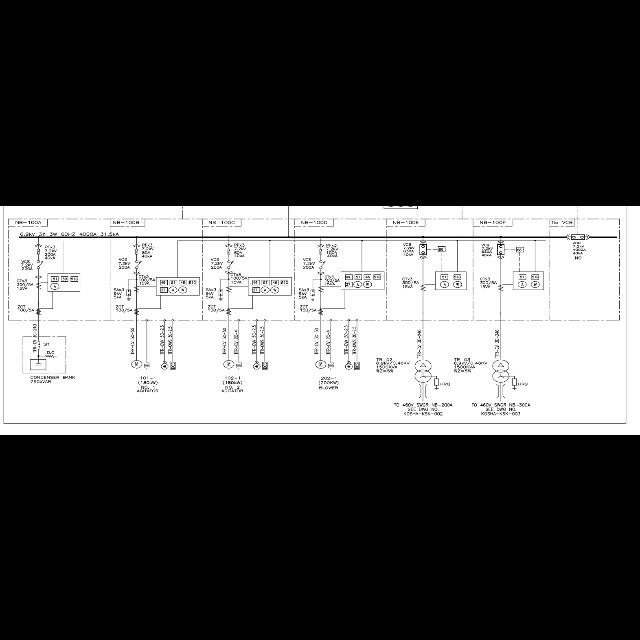A: (518, 280, 526, 288), (260, 286, 270, 292), (439, 280, 448, 286), (169, 286, 177, 292), (353, 280, 361, 286)
CB: (419, 244, 426, 254), (498, 243, 504, 254), (571, 234, 585, 238)
CT: (36, 280, 42, 288), (134, 284, 140, 292), (226, 284, 232, 292), (318, 284, 324, 292), (420, 282, 426, 290), (498, 284, 504, 290)
GND: (434, 386, 440, 389), (126, 298, 132, 300), (310, 298, 316, 300), (511, 387, 517, 389), (219, 298, 223, 300)
LA: (126, 288, 130, 296), (219, 288, 223, 296), (311, 288, 315, 296)
MC: (37, 260, 43, 268), (135, 260, 141, 268), (227, 260, 233, 268), (319, 260, 325, 268)
PF2: (37, 248, 39, 254), (136, 248, 138, 254), (228, 248, 230, 254), (320, 248, 322, 254)
SR: (38, 340, 40, 350)
ZCT: (225, 306, 231, 314), (36, 308, 40, 314), (134, 308, 138, 314), (319, 308, 323, 314)
